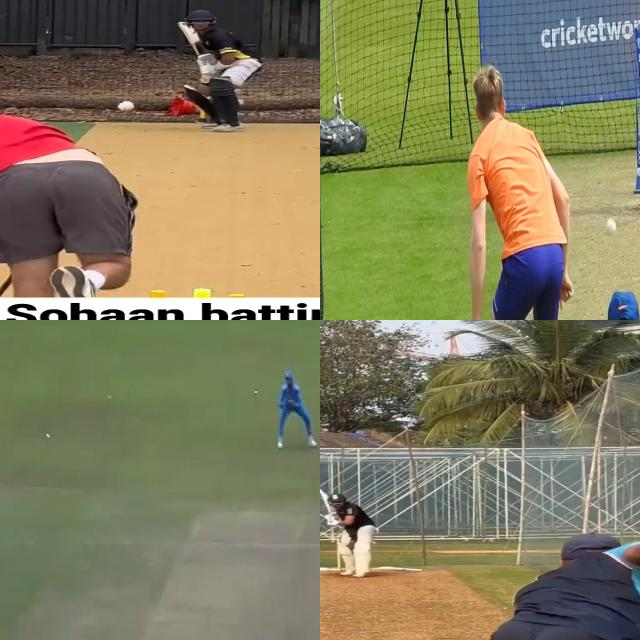Cricket ball: (603, 216, 618, 239), (116, 101, 136, 113), (46, 429, 51, 441)
Stumps: (630, 24, 640, 196)
